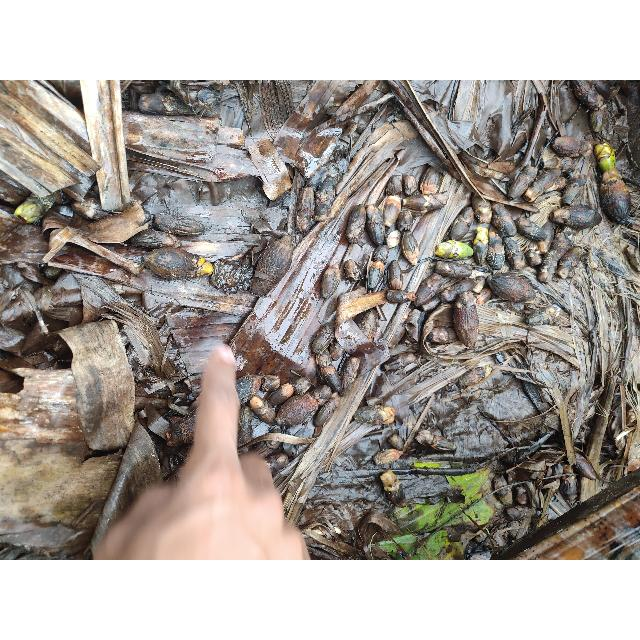damaged: (281, 432, 333, 520), (522, 320, 586, 366), (255, 234, 293, 292), (598, 168, 632, 225), (300, 524, 350, 558), (404, 396, 436, 448), (486, 274, 538, 304), (240, 432, 314, 452), (160, 338, 192, 384), (452, 292, 478, 348), (551, 204, 603, 228), (152, 212, 204, 236), (524, 168, 560, 202), (20, 290, 50, 330), (128, 228, 180, 250), (570, 81, 604, 111), (145, 403, 171, 441), (550, 137, 594, 159), (508, 166, 536, 200), (491, 202, 517, 238), (558, 172, 586, 205), (556, 246, 584, 278), (296, 187, 316, 231), (402, 194, 442, 216), (526, 304, 566, 326), (514, 217, 550, 241), (346, 205, 366, 248), (354, 406, 396, 426), (248, 395, 276, 425), (314, 394, 338, 428), (442, 278, 476, 302), (502, 237, 526, 271), (340, 356, 360, 396), (486, 231, 506, 271), (434, 260, 474, 280), (366, 204, 384, 246), (534, 220, 556, 254), (310, 322, 334, 353), (382, 194, 402, 230), (416, 430, 452, 450), (236, 374, 260, 404), (458, 366, 489, 389), (550, 227, 572, 259), (383, 352, 417, 372), (358, 310, 379, 342), (389, 119, 417, 143), (366, 255, 384, 292), (538, 250, 560, 280), (238, 406, 254, 446), (349, 111, 375, 135), (318, 269, 340, 297), (416, 280, 438, 308), (314, 176, 336, 204), (322, 364, 342, 394), (472, 193, 492, 223), (251, 439, 281, 459), (558, 474, 578, 504), (588, 105, 608, 134), (402, 230, 418, 266), (492, 474, 510, 506), (450, 215, 472, 241), (268, 384, 294, 406), (343, 258, 363, 286), (422, 167, 442, 195), (588, 80, 616, 100), (373, 448, 403, 466), (504, 504, 534, 522), (266, 451, 290, 473), (170, 446, 190, 472), (428, 326, 456, 344), (167, 396, 191, 416), (314, 200, 332, 226), (388, 260, 402, 292), (422, 272, 442, 294), (310, 384, 332, 404), (387, 485, 407, 507), (388, 289, 418, 303), (396, 208, 412, 234), (524, 246, 542, 268), (403, 175, 419, 198), (387, 175, 403, 198), (144, 381, 170, 395), (292, 376, 312, 394), (261, 374, 281, 392), (329, 339, 345, 361), (540, 156, 562, 172), (385, 229, 401, 249), (373, 245, 389, 265), (316, 350, 332, 370), (388, 432, 404, 450), (339, 122, 357, 138), (560, 156, 576, 172)
